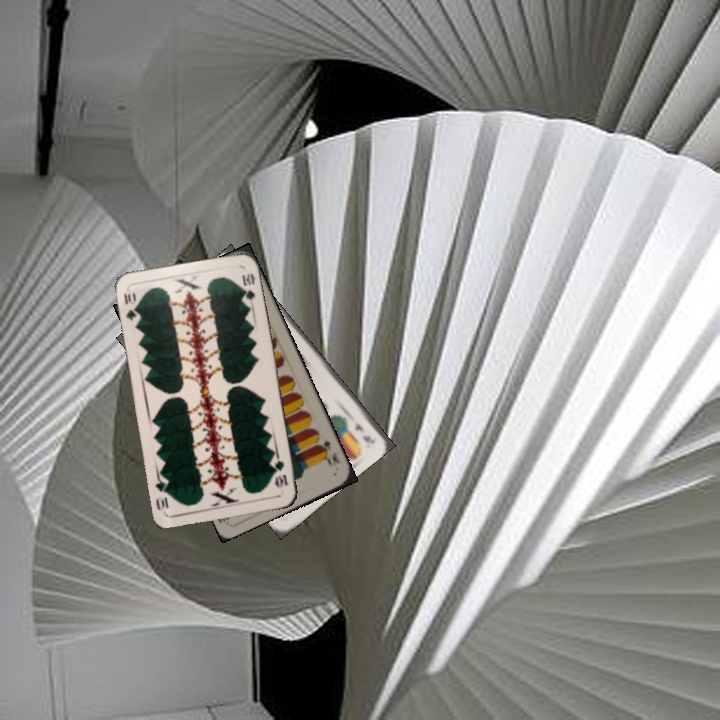E10: (313, 435, 342, 468)
EK: (350, 419, 373, 446)
G10: (269, 452, 290, 491), (120, 286, 141, 323)
